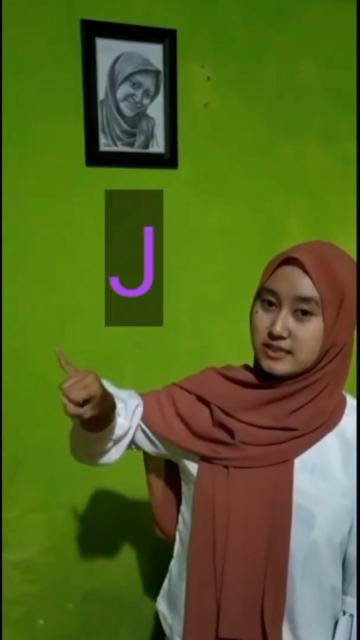J: (51, 344, 115, 432)
